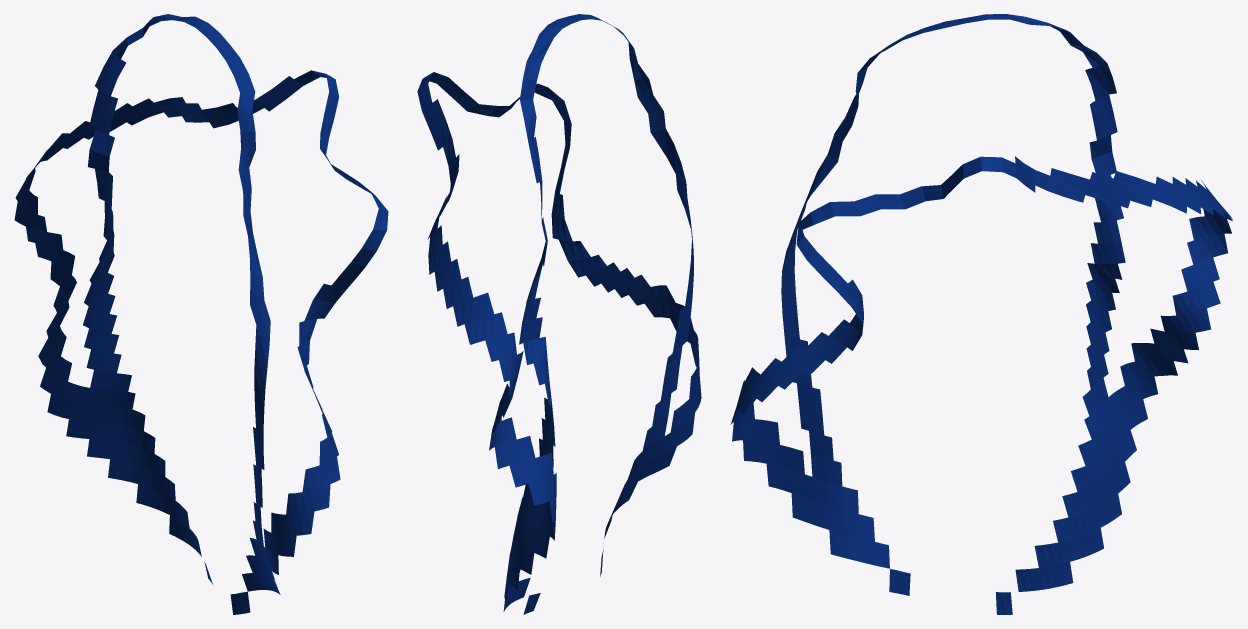
File: selected_mesh5.obj
3 views of the same model, side by side, from view 1: azimuth 30°, elevation 25°; view 2: azimuth 150°, elevation 25°; view 3: azimuth 270°, elevation 25° (orthographic). The views are drawn at different scales.
Size of the model in its own units: 0.2771 by 0.7139 by 0.5515.
